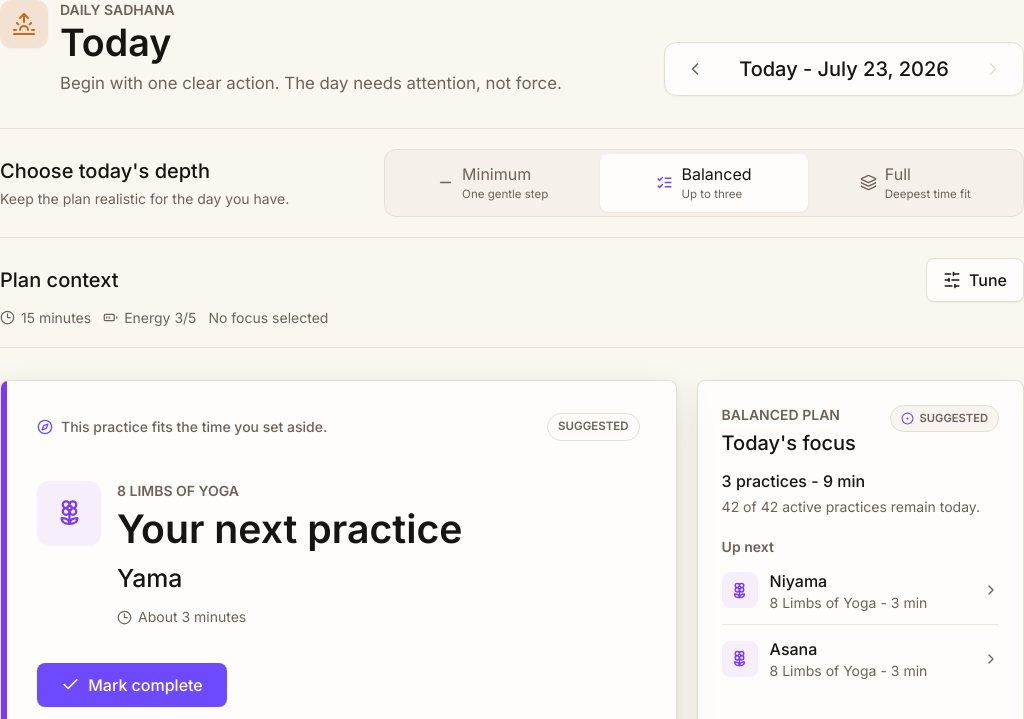
Test: TodayScreen › advances the focused practice immediately after recording it
This screenshot has width=1024, height=719.
Click the button with aria-label "Complete Yama" at (132, 685), box [37, 663, 227, 707]
(page scrolled)
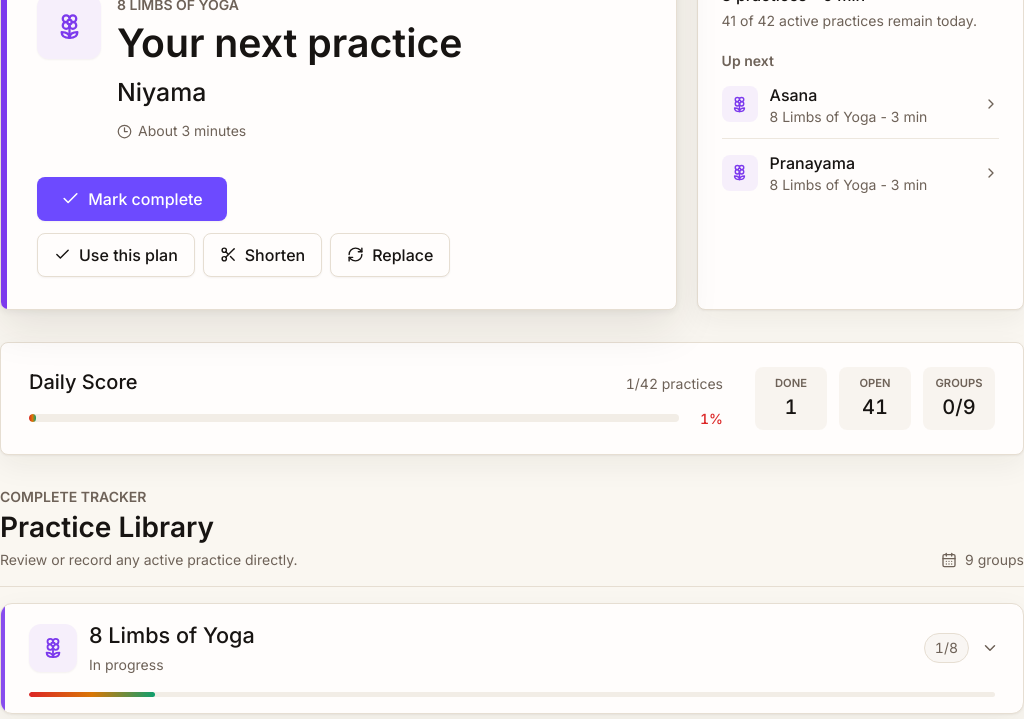
Expected: the heading "Your next practice" is shown, [117, 18, 462, 67]
Expected: the text "Niyama" is shown, [117, 77, 206, 107]
Expected: the text "1/42 practices" is shown, [626, 374, 723, 394]
